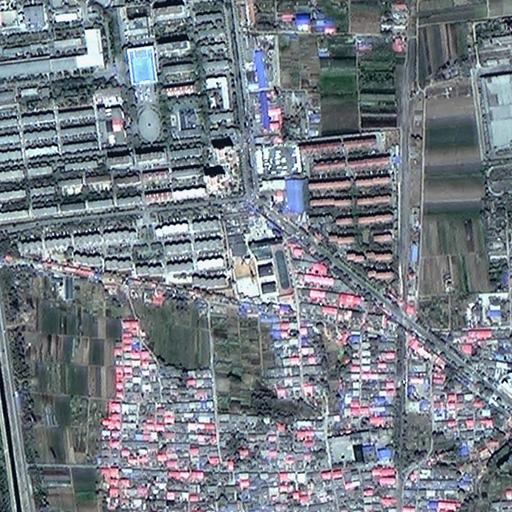school: (247, 240, 293, 302)
